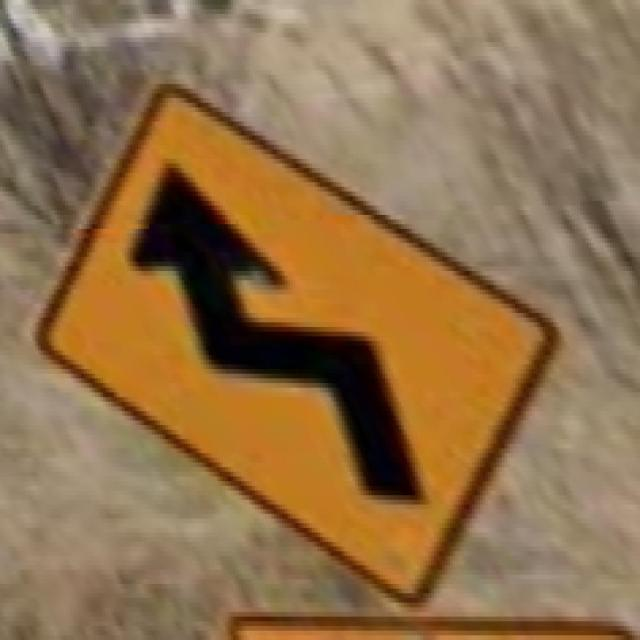Tikungan Ganda Pertama Ke Kiri: (27, 65, 561, 608)
